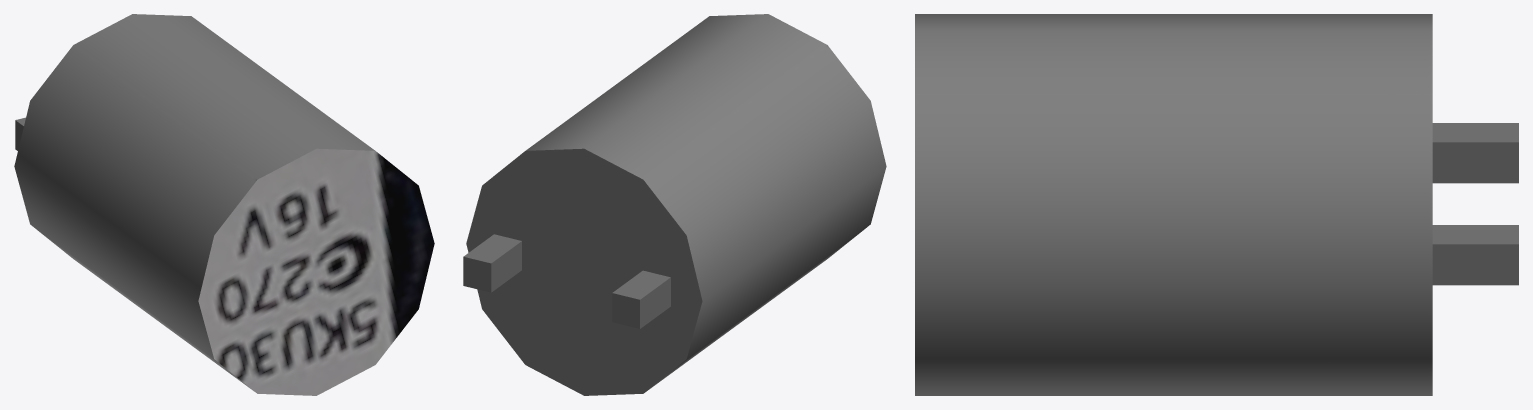
File: Chip_012.FBX
3 renders of one model, left to right at view 1: azimuth 30°, elevation 25°; view 2: azimuth 150°, elevation 25°; view 3: azimuth 270°, elevation 25°, orthographic. The views are drawn at different scales.
Parts seen in each view (by area): view 1: Chip_012; view 2: Chip_012; view 3: Chip_012.
Part boxes in pixels (x1=…): Chip_012: x1=14, y1=14, x2=434, y2=395; Chip_012: x1=463, y1=14, x2=886, y2=395; Chip_012: x1=915, y1=14, x2=1518, y2=395.
Bounding box in the file's own units: 2 × 3.15 × 2.
Materials: 2 (1 with a texture image).
